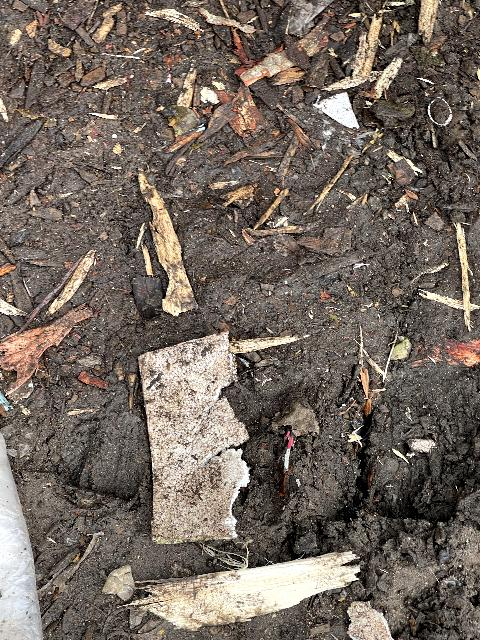cocksheet: (135, 337, 250, 541)
